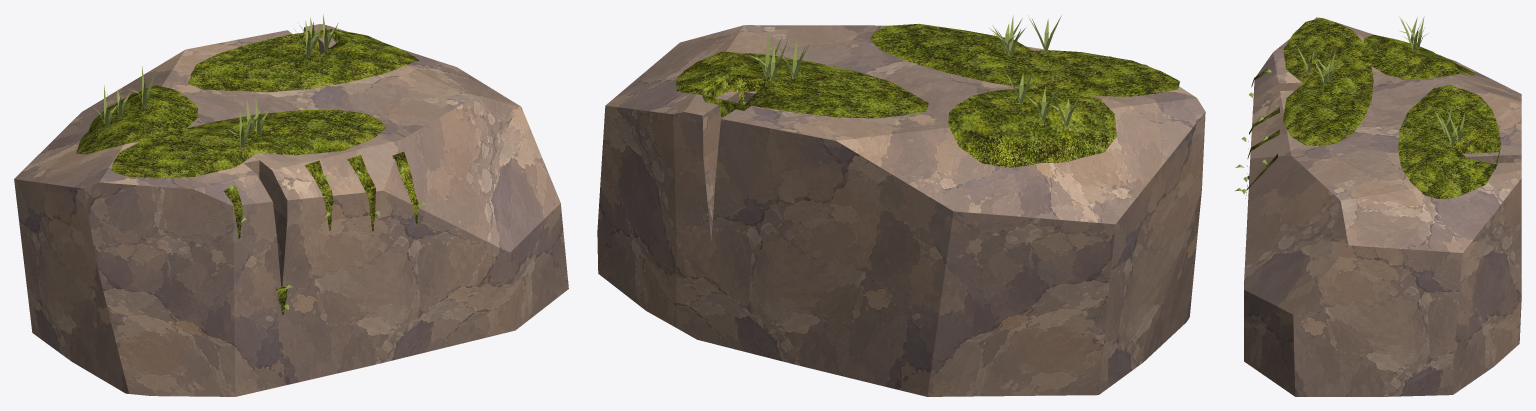
The model's file is ledge.glb.
3 views of the same model, side by side, from view 1: azimuth 30°, elevation 25°; view 2: azimuth 150°, elevation 25°; view 3: azimuth 270°, elevation 25° (orthographic). The views are drawn at different scales.
Parts seen in each view (by area): view 1: ledge__stone, ledge__moss, ledge__plants; view 2: ledge__stone, ledge__moss, ledge__plants; view 3: ledge__stone, ledge__moss, ledge__plants.
Part boxes in pixels (box(x1,y1,x2,y2)): ledge__stone: box(14, 24, 568, 396); ledge__moss: box(76, 29, 419, 315); ledge__plants: box(92, 14, 426, 310); ledge__stone: box(597, 25, 1205, 396); ledge__moss: box(675, 23, 1180, 167); ledge__plants: box(749, 15, 1111, 126); ledge__stone: box(1244, 17, 1521, 396); ledge__moss: box(1245, 18, 1501, 198); ledge__plants: box(1235, 17, 1468, 194).
Bounding box in the file's own units: 3.51 × 1.83 × 2.12.
Materials: 3 (2 with a texture image).
